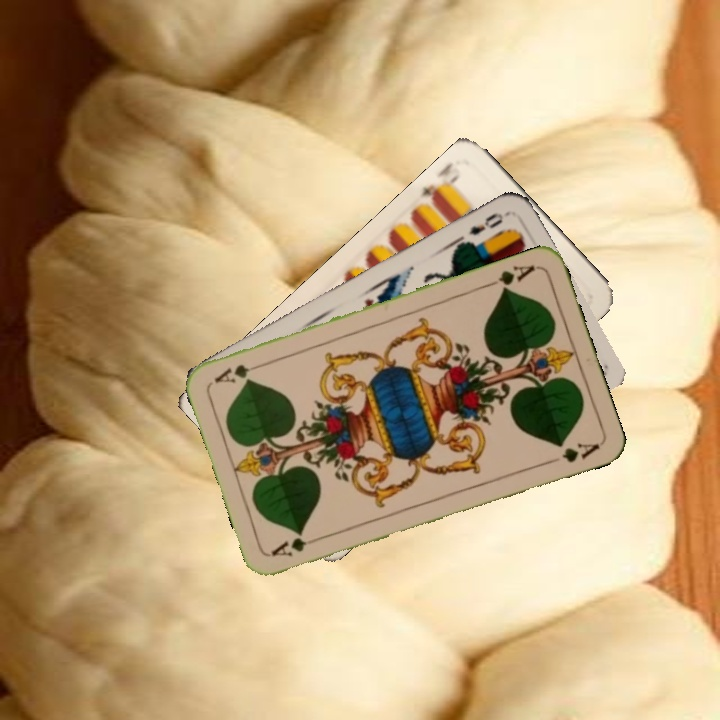E10: (417, 170, 463, 208)
EO: (464, 208, 506, 238)
GA: (482, 260, 538, 295), (267, 531, 325, 560)
